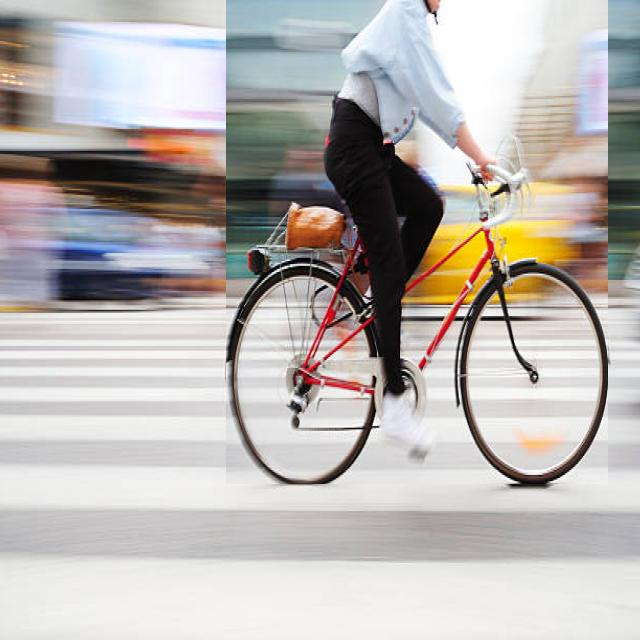bicycle: (226, 0, 608, 484)
